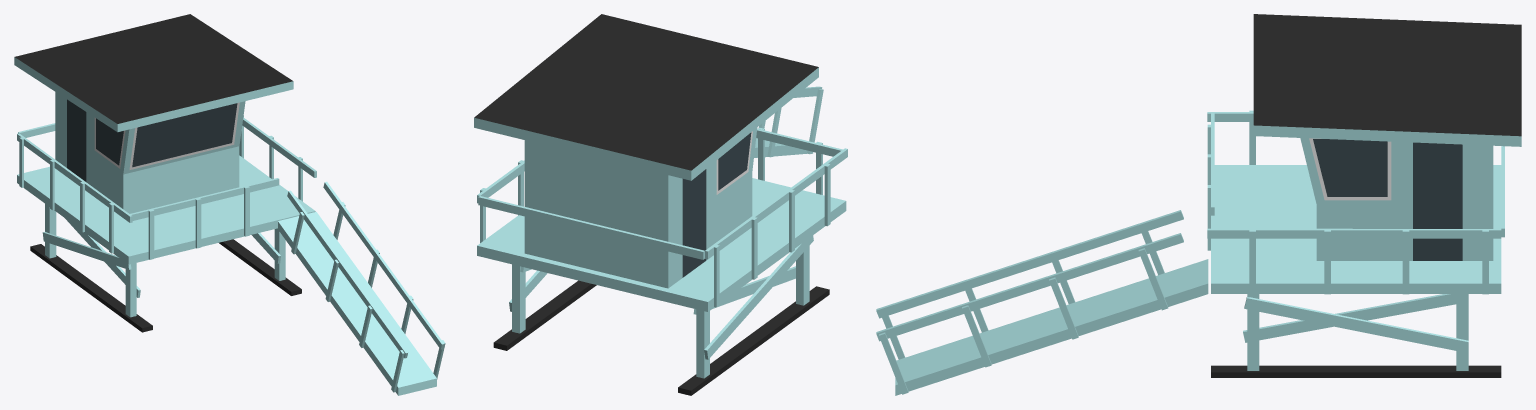
Rendered from beach_lifeguard.fbx.
3 renders of one model, left to right at view 1: azimuth 30°, elevation 25°; view 2: azimuth 150°, elevation 25°; view 3: azimuth 270°, elevation 25°, orthographic. The views are drawn at different scales.
Parts seen in each view (by area): view 1: lifeguard__base, lifeguard_bridge; view 2: lifeguard__base, lifeguard_bridge; view 3: lifeguard__base, lifeguard_bridge.
Part boxes in pixels (box(x1,y1,x2,y2)): lifeguard__base: box(14, 14, 316, 332); lifeguard_bridge: box(278, 181, 445, 395); lifeguard__base: box(474, 14, 847, 395); lifeguard_bridge: box(754, 86, 823, 157); lifeguard__base: box(1207, 14, 1521, 377); lifeguard_bridge: box(876, 210, 1208, 395).
Size of the model in its own units: 88.85 by 91.27 by 200.
